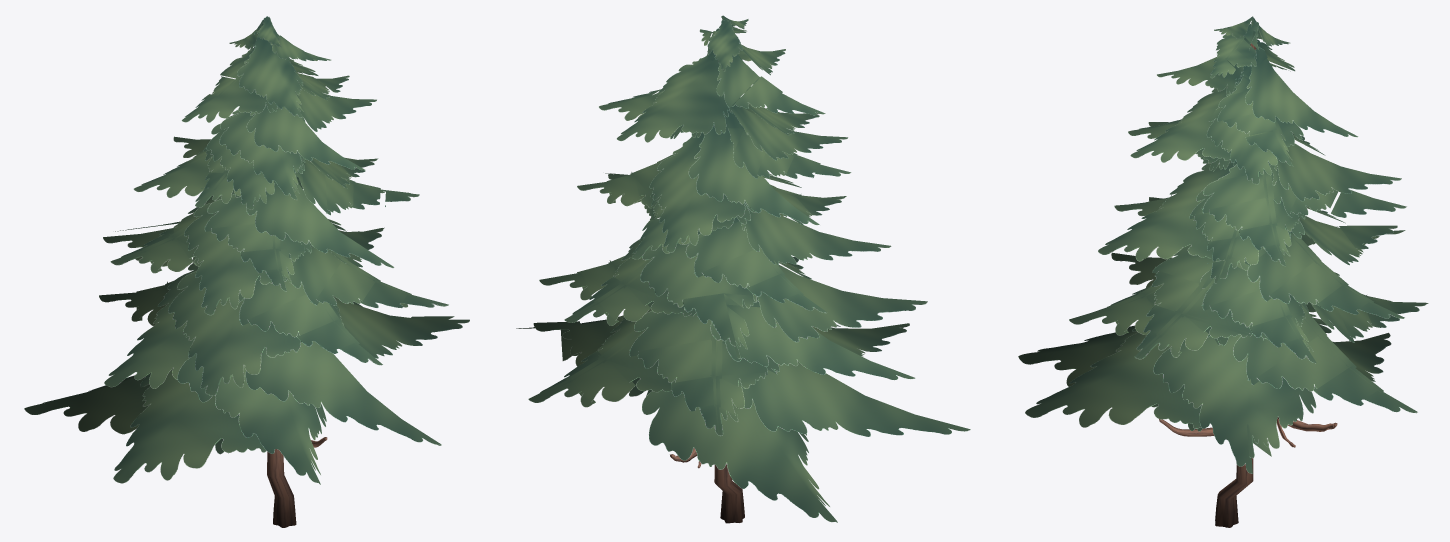
The model's file is Pine_2.glb.
The picture shows the model from 3 angles, left to right: view 1: azimuth 30°, elevation 25°; view 2: azimuth 150°, elevation 25°; view 3: azimuth 270°, elevation 25°; orthographic projection. The views are drawn at different scales.
Parts seen in each view (by area): view 1: Pine_2; view 2: Pine_2; view 3: Pine_2.
Part boxes in pixels (x1,y1,x2,y2): Pine_2: (24, 16, 469, 527); Pine_2: (516, 15, 970, 523); Pine_2: (1018, 16, 1428, 527).
Size of the model in its own units: 6.43 by 7.4 by 5.66.
2 materials, 2 textured.
